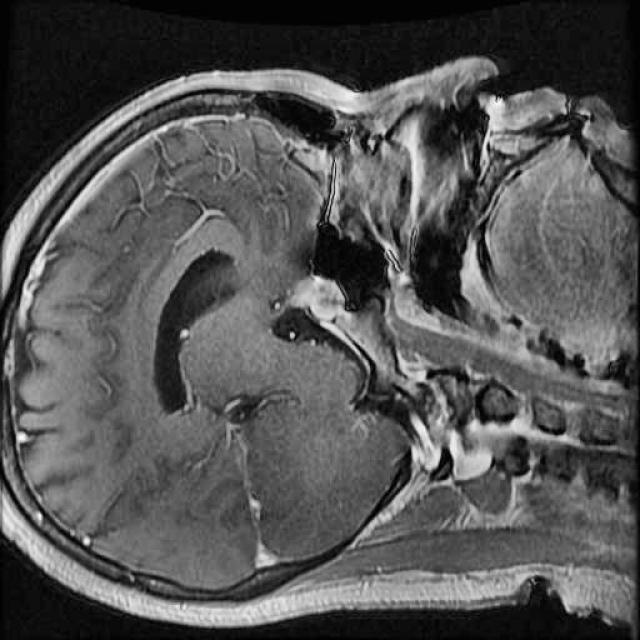Tumor: (279, 260, 365, 334)
